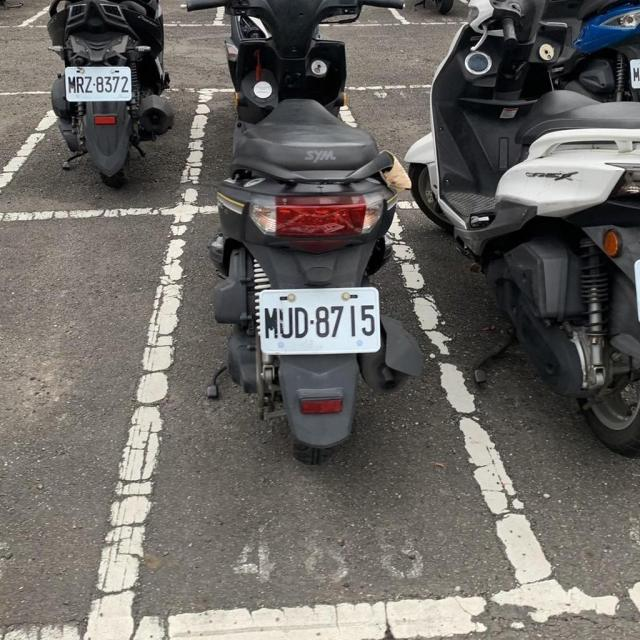W: (260, 288, 383, 354), (64, 66, 134, 103)
